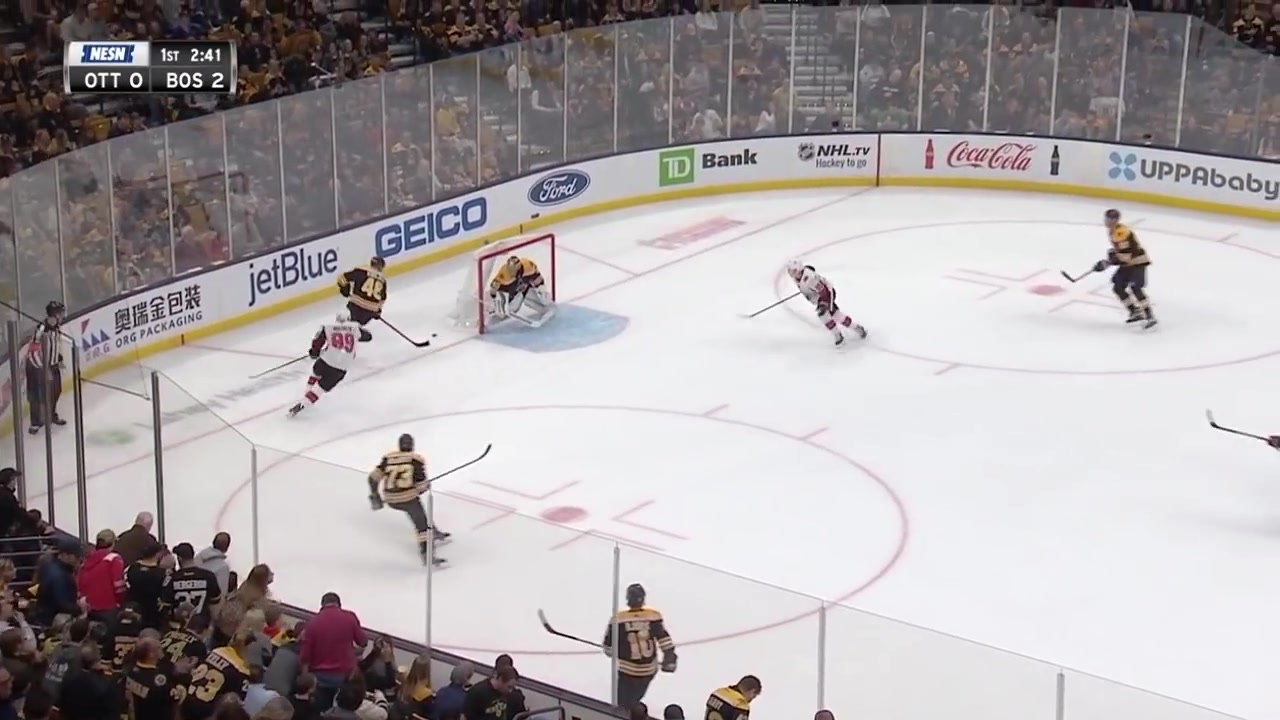geico: (365, 187, 509, 264)
